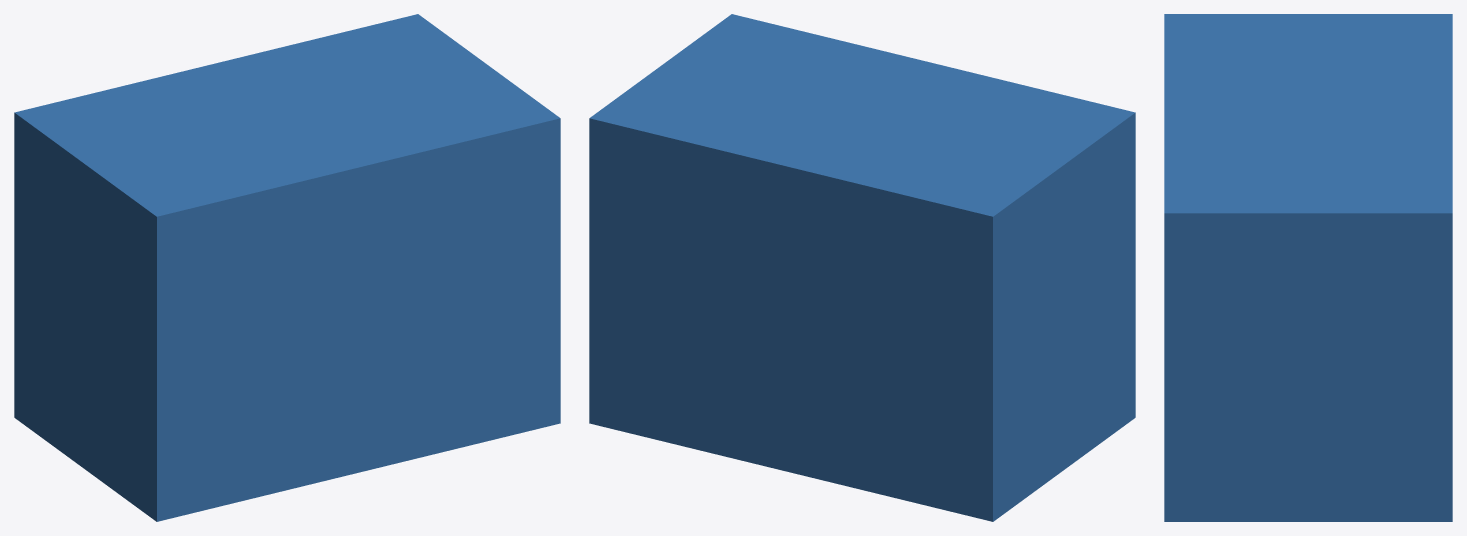
The model's file is supply_drop.glb.
The picture shows the model from 3 angles, left to right: view 1: azimuth 30°, elevation 25°; view 2: azimuth 150°, elevation 25°; view 3: azimuth 270°, elevation 25°; orthographic projection.
Parts seen in each view (by area): view 1: g0_box; view 2: g0_box; view 3: g0_box.
Part boxes in pixels (<box>): g0_box: <box>14,14,560,521</box>; g0_box: <box>589,14,1135,521</box>; g0_box: <box>1164,14,1452,521</box>.
Size of the model in its own units: 0.9 by 0.705 by 0.55.
